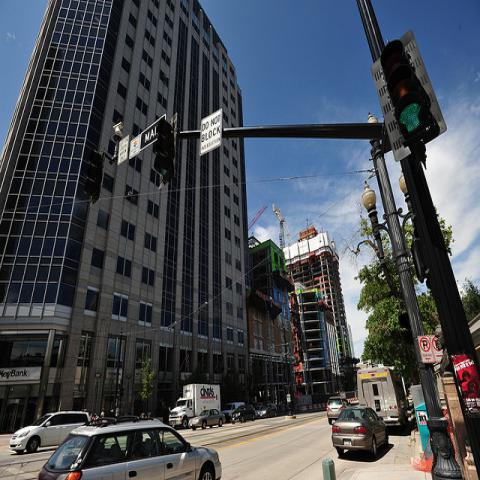car: (38, 415, 222, 479), (9, 408, 91, 456), (331, 404, 390, 457), (188, 408, 226, 430), (327, 396, 352, 424), (223, 400, 246, 423), (231, 404, 256, 424), (266, 402, 278, 418), (258, 407, 266, 419), (255, 406, 262, 418)
truck: (358, 370, 407, 426), (168, 384, 221, 430)
